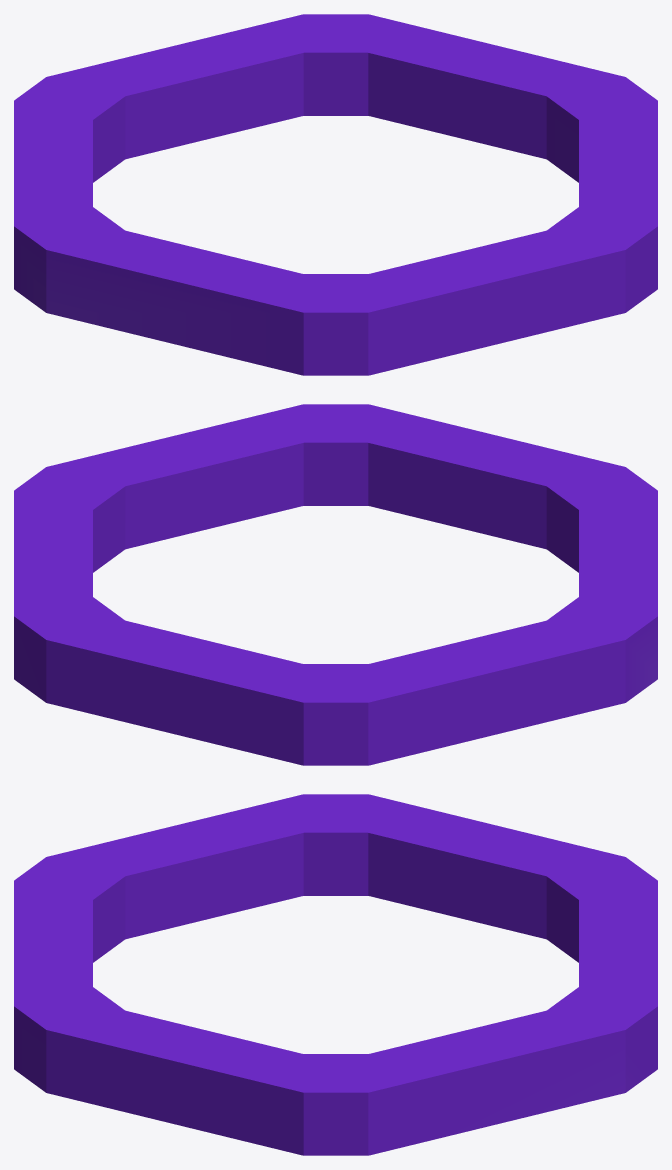
Rendered from HollowHexagon.fbx.
3 renders of one model, top to bottom at view 1: azimuth 30°, elevation 25°; view 2: azimuth 150°, elevation 25°; view 3: azimuth 270°, elevation 25°, orthographic.
Visible parts, largest first — view 1: HollowHexagon; view 2: HollowHexagon; view 3: HollowHexagon.
Part boxes in pixels (x1,y1,x2,y2): HollowHexagon: (14, 14, 657, 375); HollowHexagon: (14, 404, 657, 765); HollowHexagon: (14, 794, 657, 1155).
Bounding box in the file's own units: 190 × 18.72 × 173.
